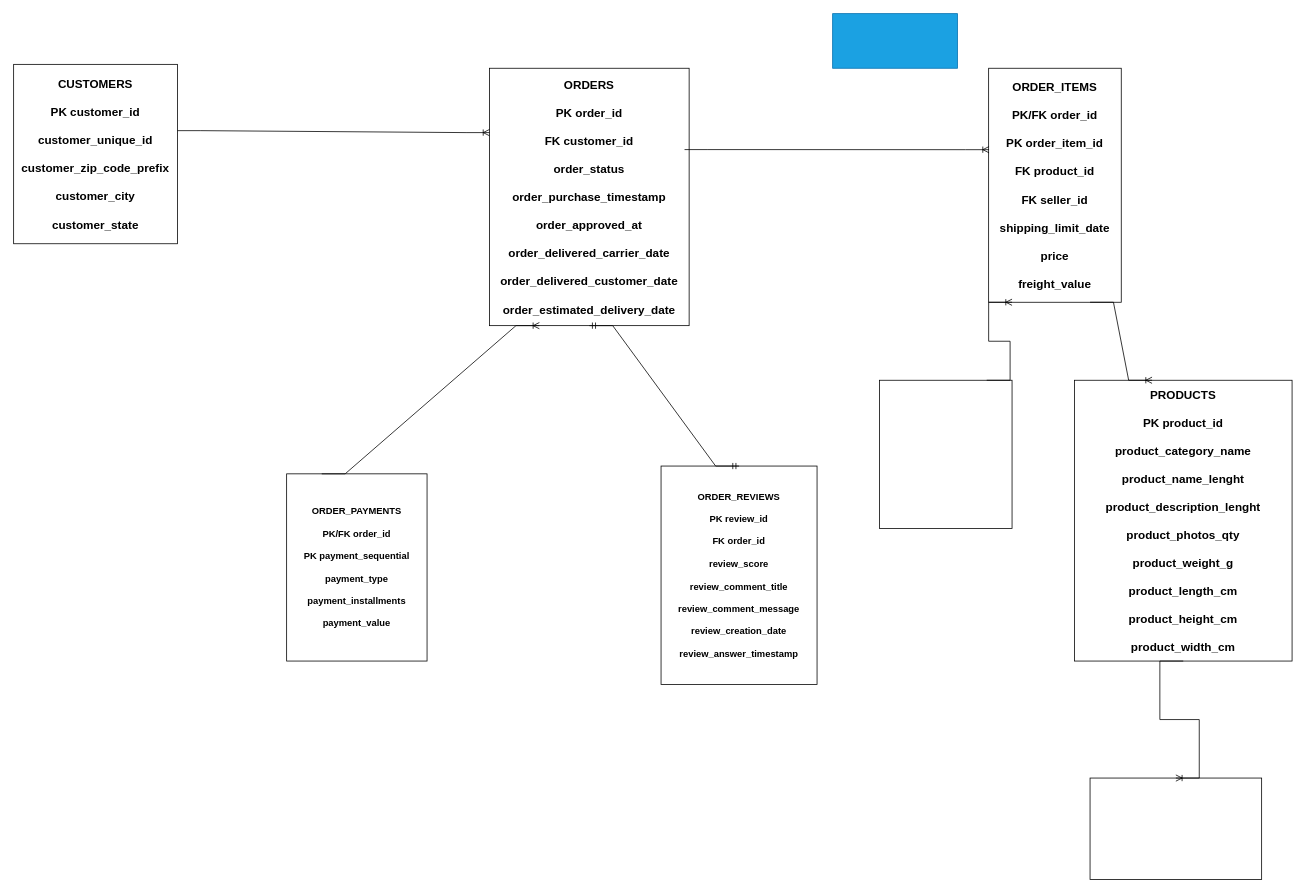
Image size: 1306x893. Some labels were removed from this diagram. The shapes that lost their labels are listed below. From the top down, each one's centre as x and y in pixels, then its label:
At [894,40]: "TABLE NAME PRIMARY KEY FOREIGN KEY".
At [945,453]: "SELLERS PK seller_id seller_zip_code_prefix seller_city seller_state".
At [1175,828]: "CATEGORY_TRANSLATION PK product_category_name product_category_name_english".
